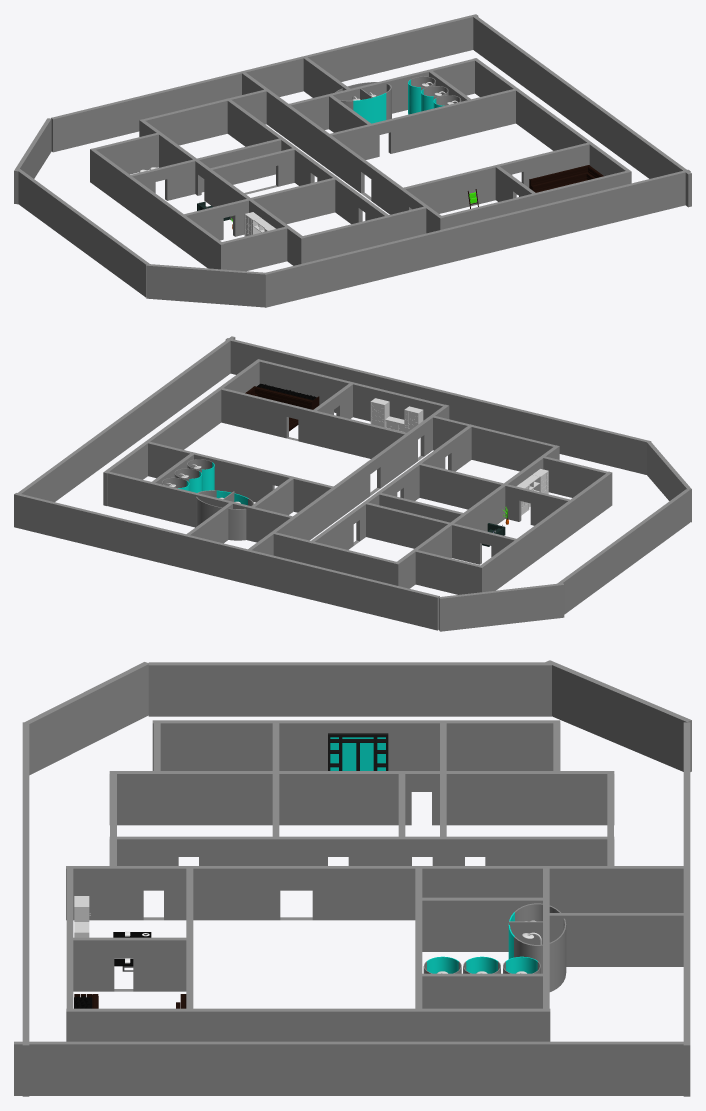
Rendered from update fix.FBX.
3 views of the same model, one above another, from view 1: azimuth 30°, elevation 25°; view 2: azimuth 150°, elevation 25°; view 3: azimuth 270°, elevation 25° (orthographic). The views are drawn at different scales.
Visible parts, largest first — view 1: Walls, Tube003, sauna, Tube005, funiture001; view 2: Walls, Tube003, funiture, sauna, funiture001, Tube001; view 3: Walls, Door012, Tube003, funiture.
Boxes of the visible parts, x1,y1,x2,y2 form: Walls: [14, 14, 691, 307]; Tube003: [335, 82, 391, 123]; sauna: [529, 165, 603, 192]; Tube005: [408, 76, 435, 114]; funiture001: [244, 212, 275, 236]; Walls: [14, 336, 691, 631]; Tube003: [196, 490, 254, 540]; funiture: [370, 398, 423, 432]; sauna: [245, 386, 319, 431]; funiture001: [516, 469, 548, 515]; Tube001: [187, 459, 214, 490]; Walls: [14, 660, 691, 1096]; Door012: [328, 733, 388, 770]; Tube003: [508, 903, 566, 991]; funiture: [74, 896, 90, 937].
Bounding box in the file's own units: 3169 × 198 × 2357.
